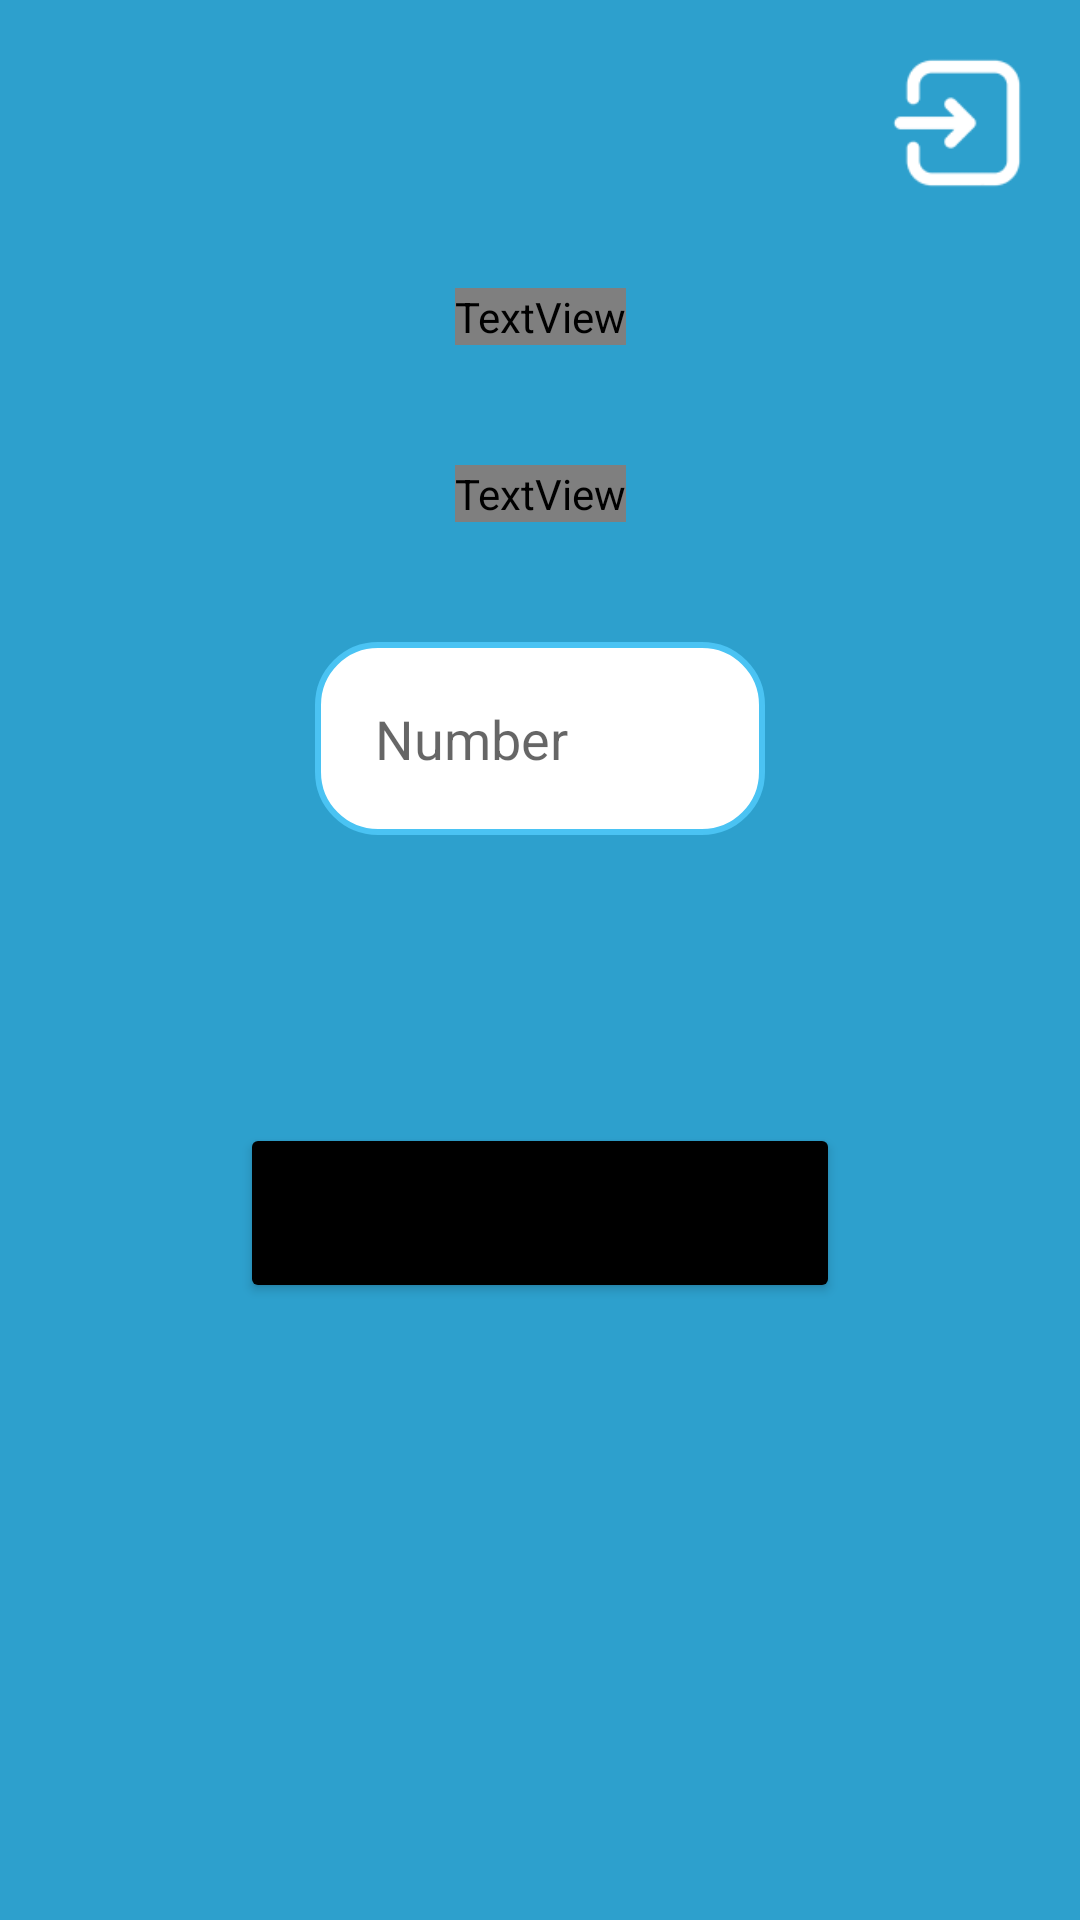

Where icons sit on this 1080x1920 app screen, as (x1, y1, x2, y2):
log out: (894, 59, 1020, 186)
